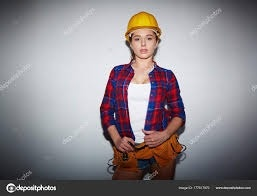helmet: (125, 12, 162, 38)
person with partial safety: (100, 11, 185, 181)
